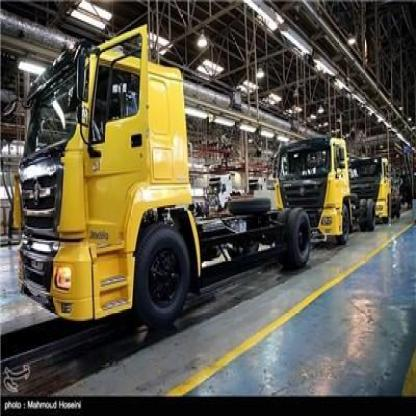Truck: (22, 46, 306, 334), (266, 124, 365, 247), (363, 159, 408, 232)
